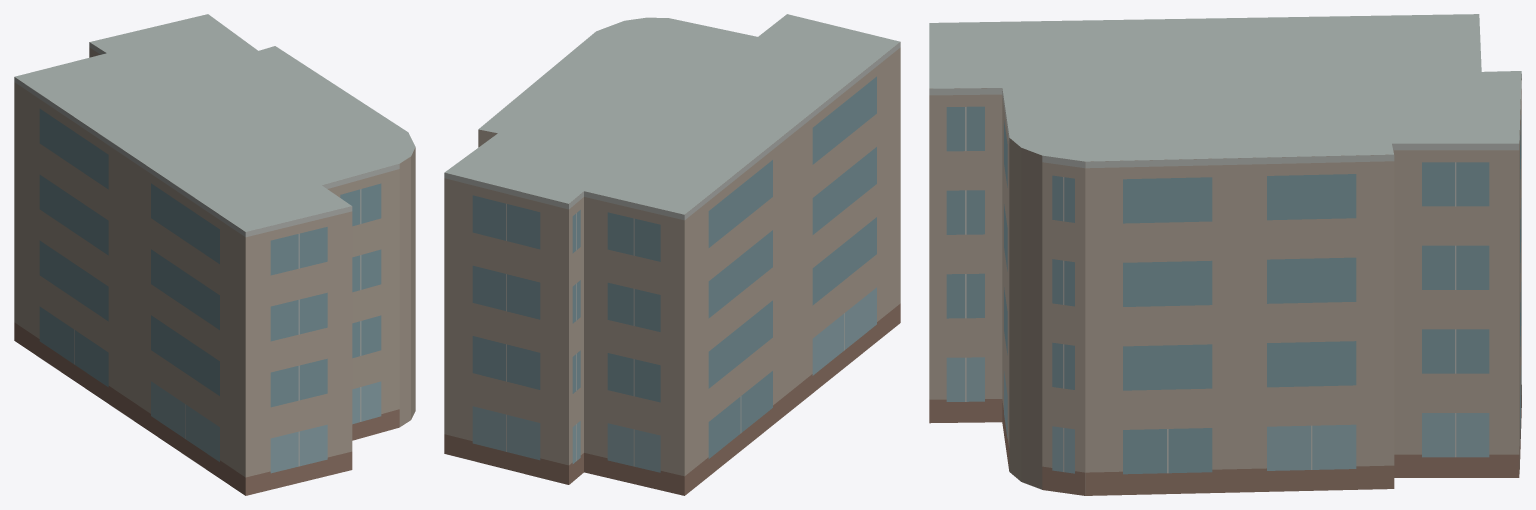
The model's file is residential-250d9d90-a067-43a7-80b7-c4c9b538fdc2.glb.
3 renders of one model, left to right at view 1: azimuth 30°, elevation 25°; view 2: azimuth 150°, elevation 25°; view 3: azimuth 270°, elevation 25°, orthographic. The views are drawn at different scales.
Visible parts, largest first — view 1: residential-250d9d90-a067-43a7-80b7-c4c9b538fdc2.tmp; view 2: residential-250d9d90-a067-43a7-80b7-c4c9b538fdc2.tmp; view 3: residential-250d9d90-a067-43a7-80b7-c4c9b538fdc2.tmp.
Boxes of the visible parts, x1,y1,x2,y2 form: residential-250d9d90-a067-43a7-80b7-c4c9b538fdc2.tmp: (14, 14, 415, 495); residential-250d9d90-a067-43a7-80b7-c4c9b538fdc2.tmp: (444, 14, 900, 495); residential-250d9d90-a067-43a7-80b7-c4c9b538fdc2.tmp: (929, 14, 1521, 495).
Bounding box in the file's own units: 11.56 × 12.2 × 19.61.
